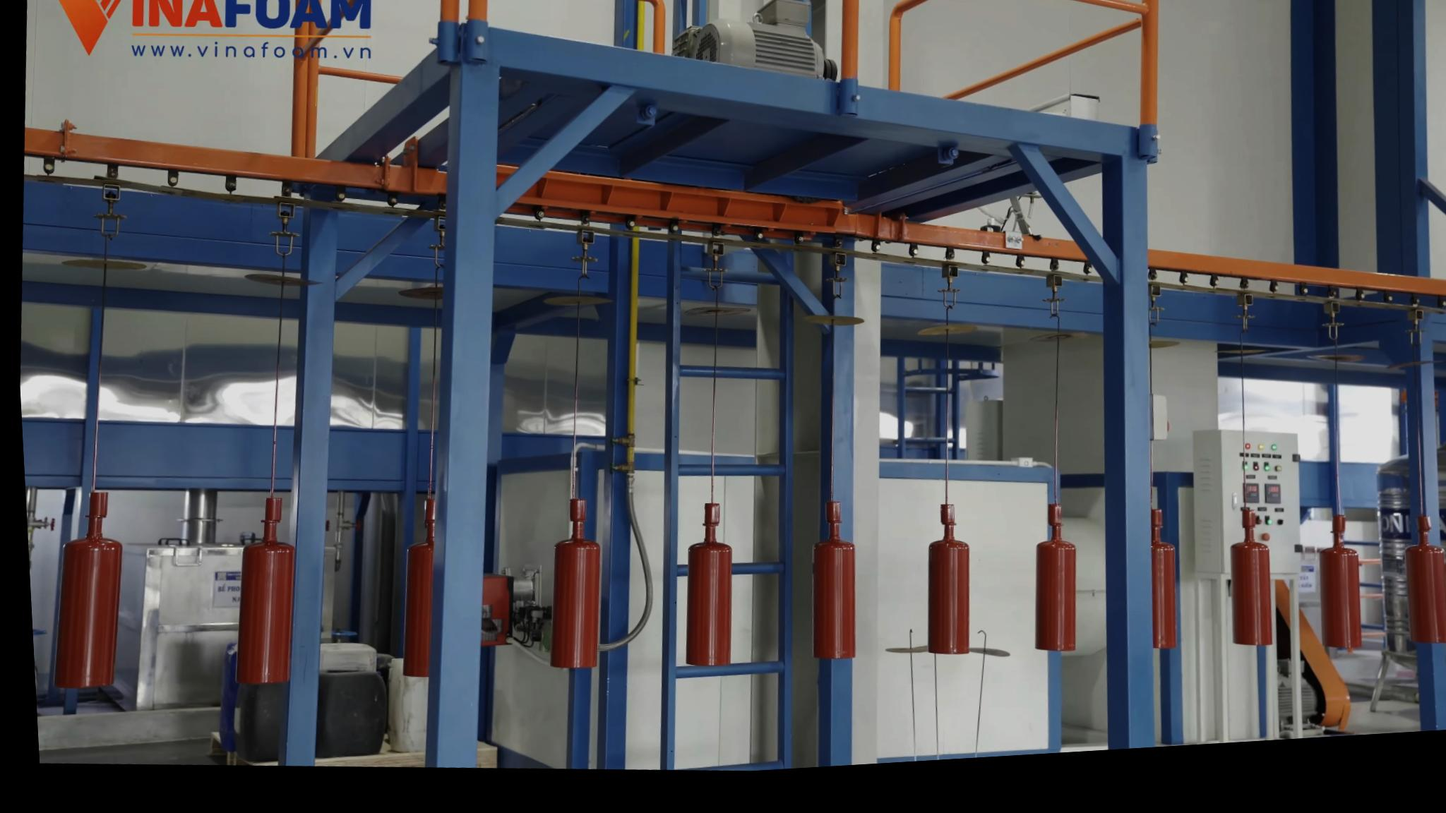FireExtinguisher: (26, 483, 132, 709), (214, 492, 309, 709), (372, 484, 466, 697), (527, 503, 617, 693), (663, 495, 749, 693), (783, 494, 868, 683), (898, 501, 986, 679), (1010, 499, 1091, 675), (1111, 502, 1193, 668), (1301, 519, 1384, 677), (1210, 506, 1283, 670), (1383, 535, 1446, 702)
not: (11, 53, 1446, 390), (245, 0, 1177, 220), (460, 551, 517, 665)
